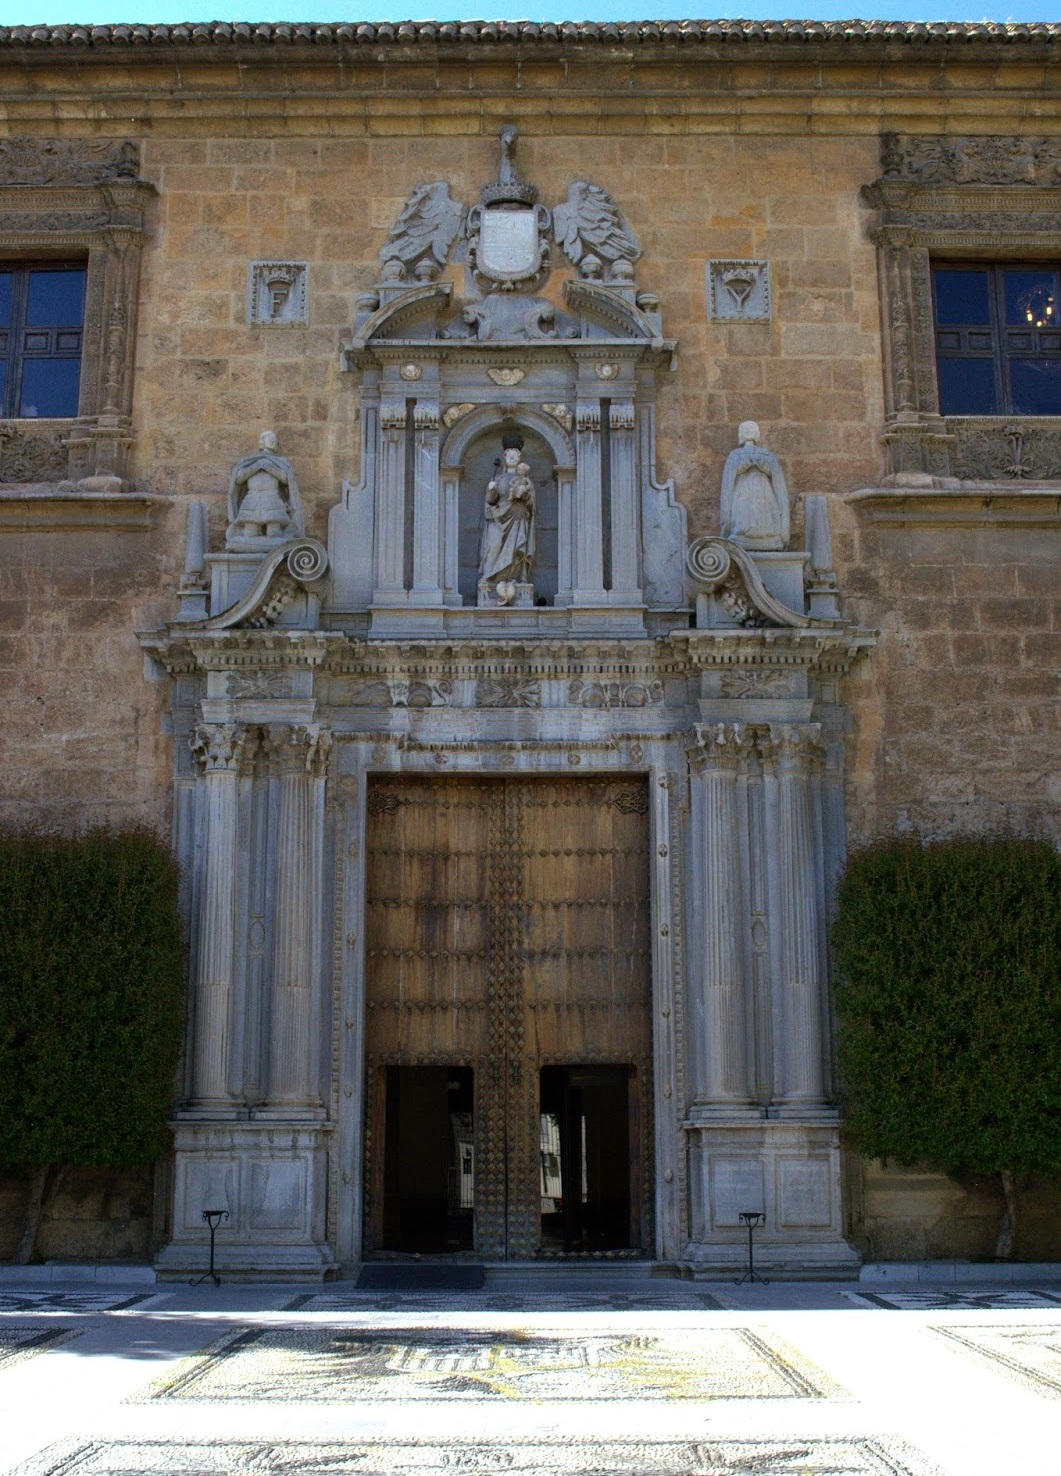fronton-partido: (154, 539, 846, 662), (341, 277, 665, 355)
vano-adintelado: (325, 727, 671, 1267), (865, 222, 1061, 427)
